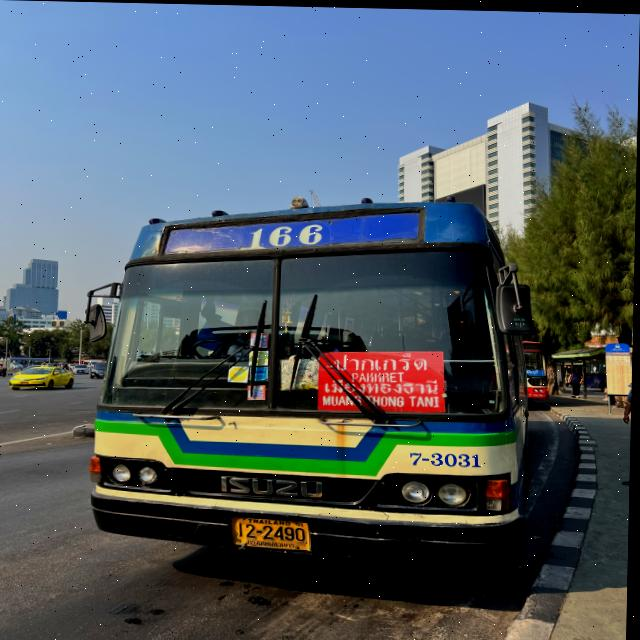BMTA-bus: (90, 192, 530, 579)
Bus-Line-Number: (241, 221, 331, 253)
Destination-Sign-Extra-Bus: (316, 349, 450, 411)
